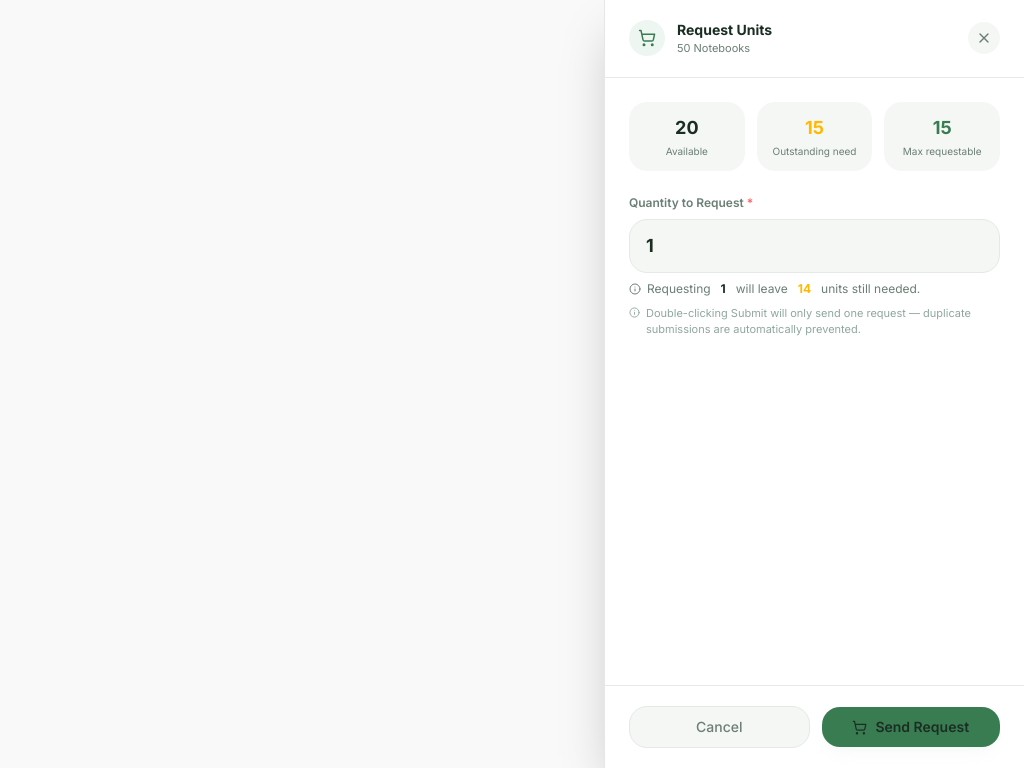
Test: RequestDrawer › T-14.2-02: entering quantity > max shows validation error
Replace the text in the number field labelled "Quantity to Request *" with "25" at (814, 246), box [629,218,1000,272]
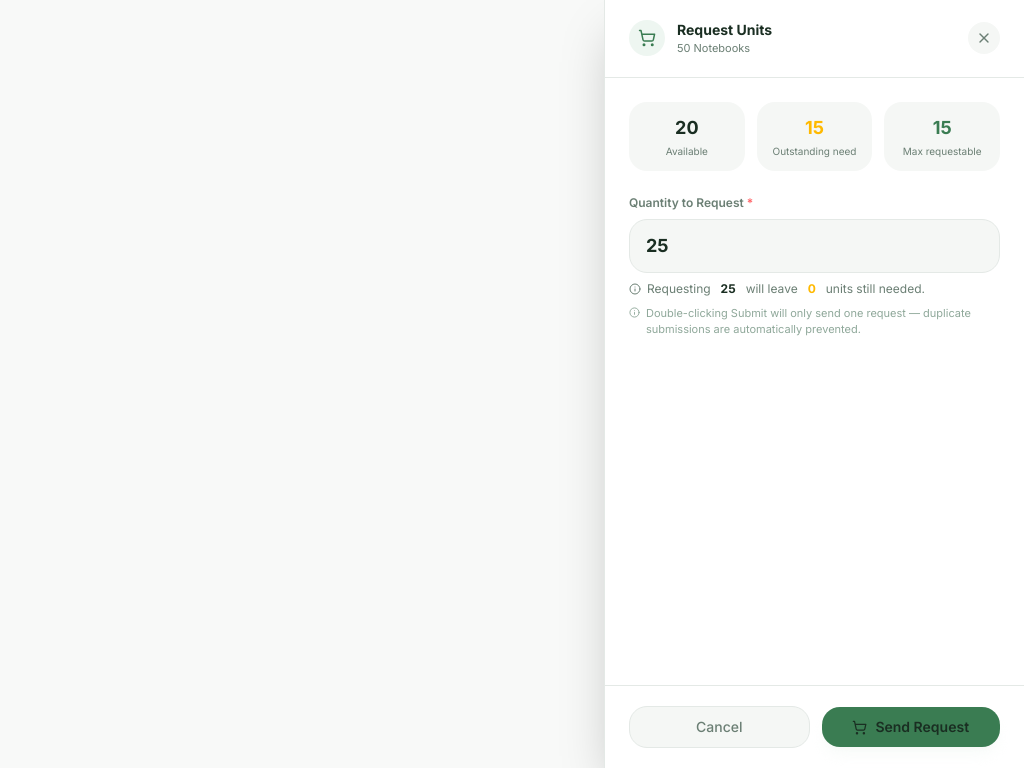
Click the button "Send Request" at (911, 727), box [822,707,1000,747]
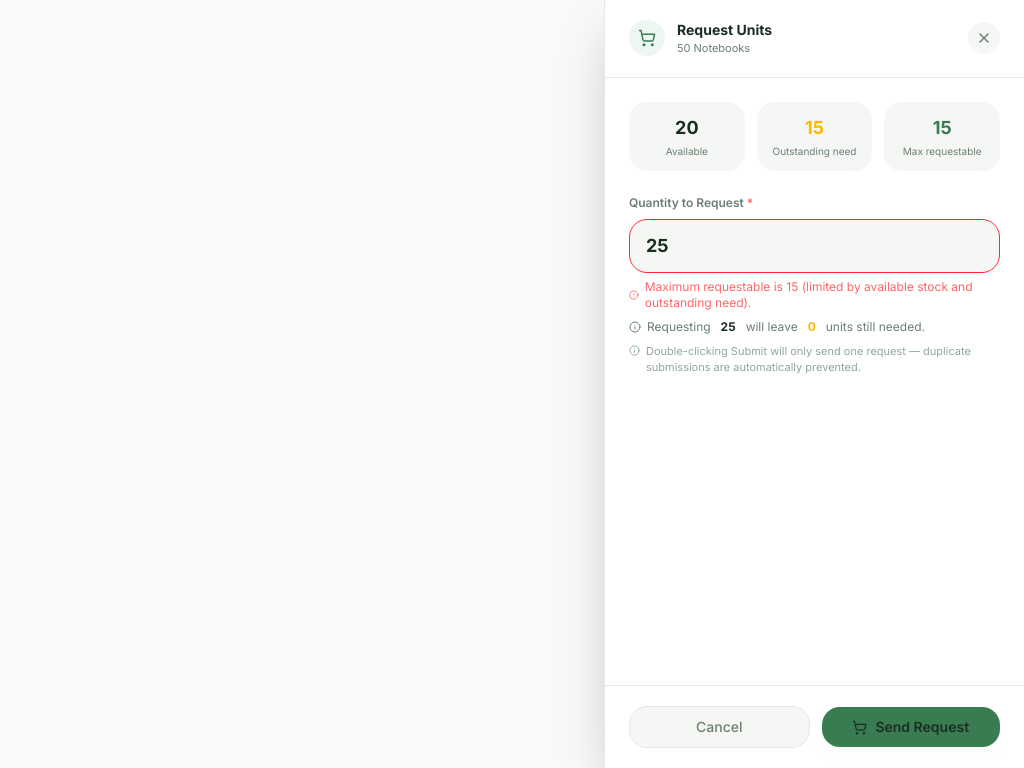
Check: the text "Maximum requestable" is shown, box [645,278,972,310]
